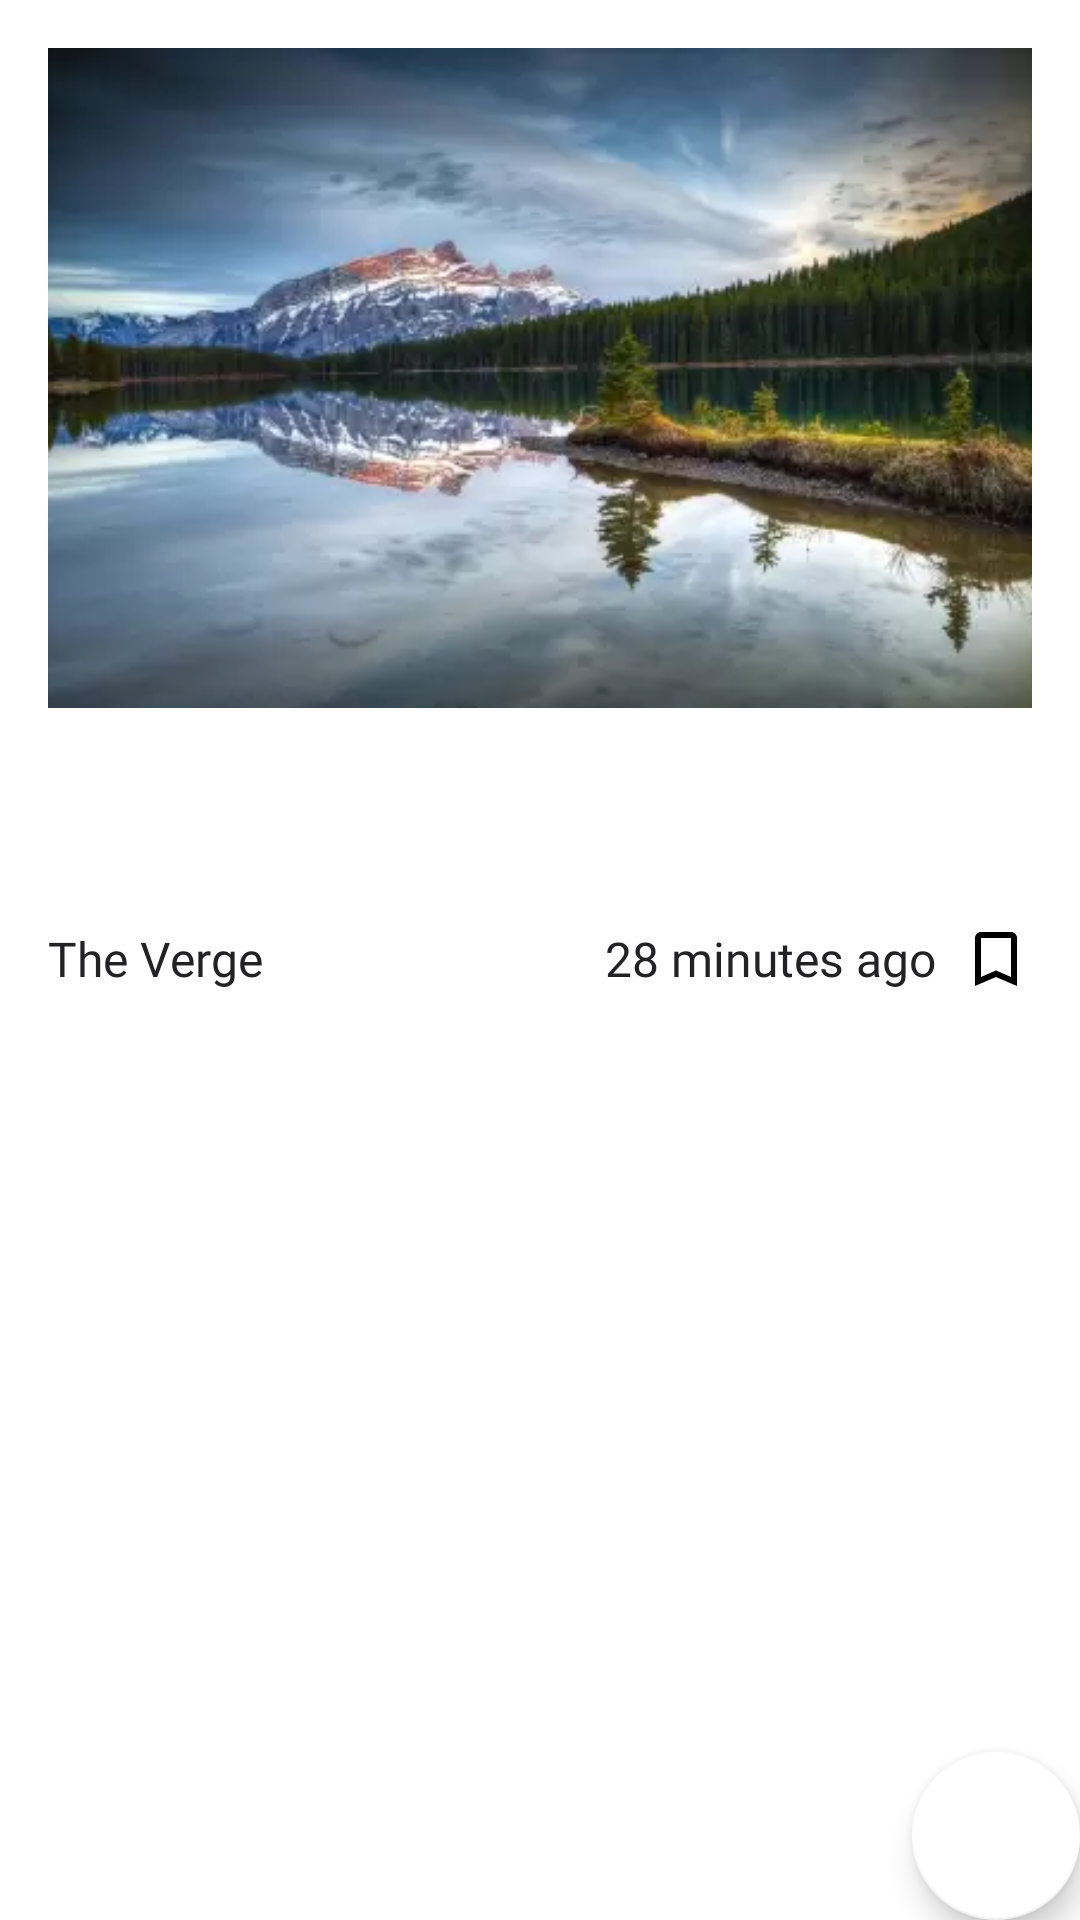

Named icons in this screenshot (1080w x 1920h) and their bounding boxes, (x1,y1,x2,y2):
bookmark: (975,932,1017,986)
